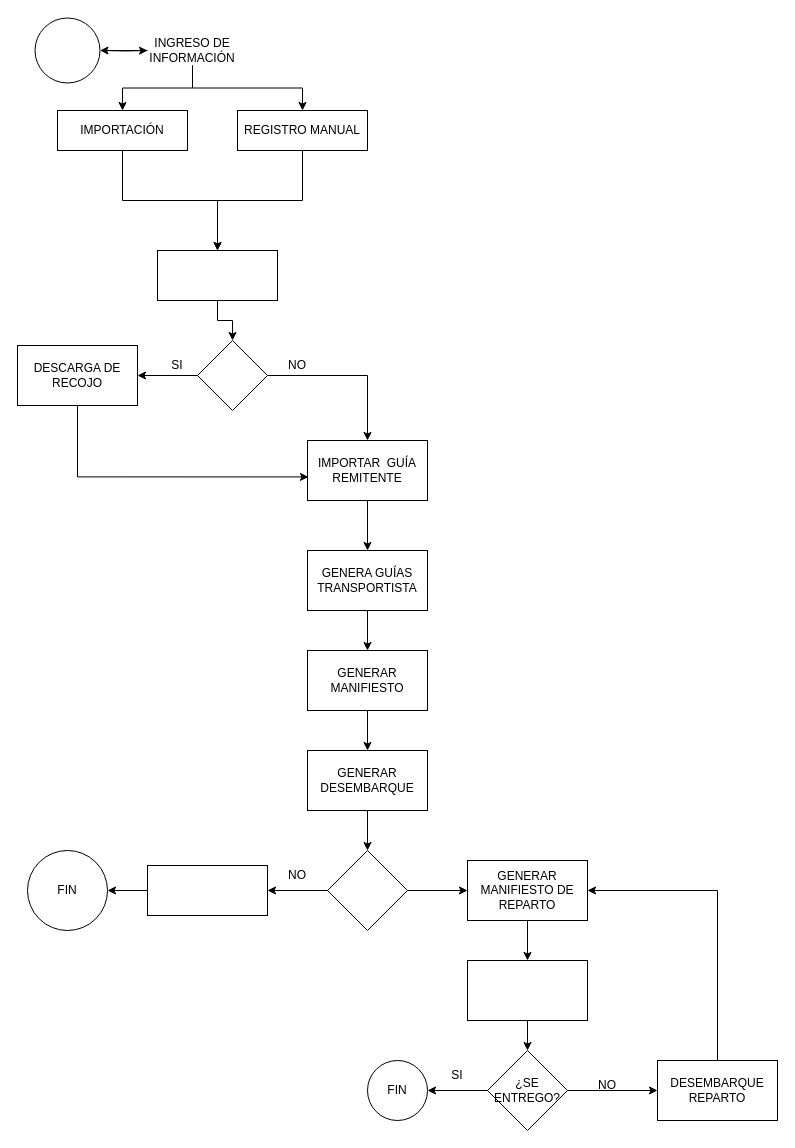
Image size: 795x1148. Some labels were removed from this diagram. The shapes that lost their labels are listed below. From the top down, each one's centre as x and y in pixels, then its label:
[67,50]: INICIO
[217,275]: PROGRAMACIÓN
[232,375]: ¿ES RECOJO?
[207,890]: GENERAR ENTREGA
[367,890]: ¿ES REPARTO?
[527,990]: ENTREGA DE REPARTO
